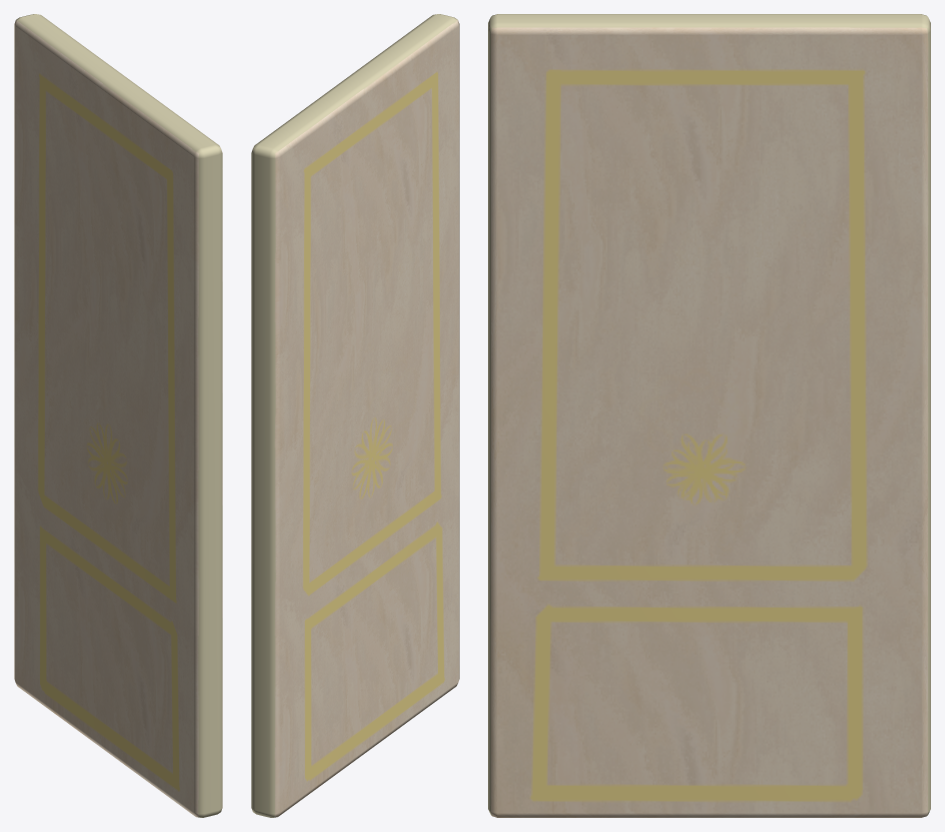
File: DoorBedroom_01.fbx
The picture shows the model from 3 angles, left to right: view 1: azimuth 30°, elevation 25°; view 2: azimuth 150°, elevation 25°; view 3: azimuth 270°, elevation 25°; orthographic projection. The views are drawn at different scales.
Parts seen in each view (by area): view 1: DoorBedroom_01; view 2: DoorBedroom_01; view 3: DoorBedroom_01.
Part boxes in pixels (left/top/right/bottom): DoorBedroom_01: left=14, top=14, right=222, bottom=817; DoorBedroom_01: left=251, top=14, right=459, bottom=817; DoorBedroom_01: left=488, top=14, right=930, bottom=817.
Bounding box in the file's own units: 11.81 × 271 × 137.
